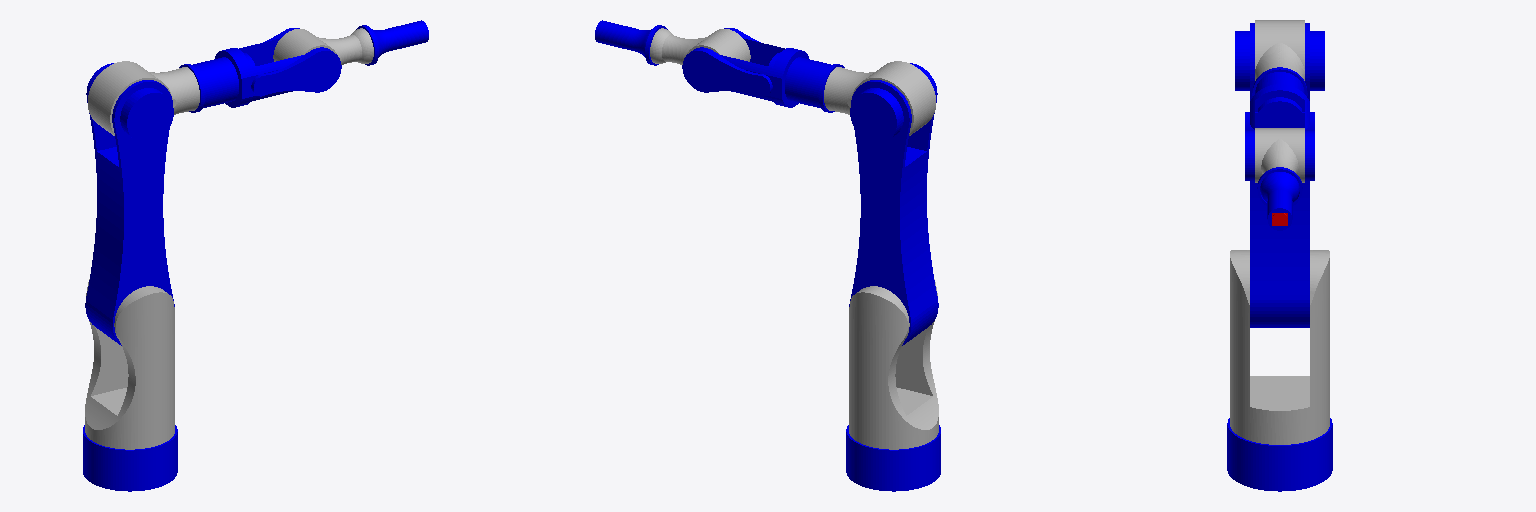
URDF robot description (project_arm):
<?xml version="1.0" ?>
<robot name="project_arm">

<!-- Define materials -->
  <material name="blue">
    <color rgba="0 0 1 1"/>
  </material>
  <material name="silver">
    <color rgba="0.75 0.75 0.75 1"/>
  </material>
  <material name="red">
    <color rgba="1 0 0 1"/>
  </material>

<link name="world"/>
  <joint name="world_joint" type="fixed">
    <parent link="world"/>
    <child link="base_link"/>
    <origin xyz="0 0 0" rpy="0 0 0"/>
  </joint>

<link name="base_link">
  <inertial>
    <origin xyz="-2.0655600803110916e-17 -4.131120160622183e-17 0.051086956521739134" rpy="0 0 0"/>
    <mass value="28.14486099507207"/>
    <inertia ixx="0.101403" iyy="0.101403" izz="0.152701" ixy="-0.0" iyz="-0.0" ixz="-0.0"/>
  </inertial>
  <visual>
    <origin xyz="0 0 0" rpy="0 0 0"/>
    <geometry>
      <mesh filename="package://project_arm_description/meshes/base_link.stl" scale="0.001 0.001 0.001"/>
    </geometry>
    <material name="blue"/>
  </visual>
  <collision>
    <origin xyz="0 0 0" rpy="0 0 0"/>
    <geometry>
      <mesh filename="package://project_arm_description/meshes/base_link.stl" scale="0.001 0.001 0.001"/>
    </geometry>
  </collision>
</link>

<link name="link_1_1">
  <inertial>
    <origin xyz="0.00386503222955484 9.679350306559669e-08 0.12786907929728872" rpy="0 0 0"/>
    <mass value="35.62909759848501"/>
    <inertia ixx="0.5863" iyy="0.492833" izz="0.219323" ixy="0.0" iyz="-0.0" ixz="-0.001059"/>
  </inertial>
  <visual>
    <origin xyz="-0.0 -0.0 -0.1" rpy="0 0 0"/>
    <geometry>
      <mesh filename="package://project_arm_description/meshes/link_1_1.stl" scale="0.001 0.001 0.001"/>
    </geometry>
    <material name="silver"/>
  </visual>
  <collision>
    <origin xyz="-0.0 -0.0 -0.1" rpy="0 0 0"/>
    <geometry>
      <mesh filename="package://project_arm_description/meshes/link_1_1.stl" scale="0.001 0.001 0.001"/>
    </geometry>
  </collision>
</link>

<link name="link_2_1">
  <inertial>
    <origin xyz="3.62961838471089e-06 0.06999999999999999 0.18402946055049396" rpy="0 0 0"/>
    <mass value="61.88069383495381"/>
    <inertia ixx="1.999815" iyy="1.968216" izz="0.186912" ixy="-0.0" iyz="-0.0" ixz="6e-06"/>
  </inertial>
  <visual>
    <origin xyz="-0.0 0.07 -0.4" rpy="0 0 0"/>
    <geometry>
      <mesh filename="package://project_arm_description/meshes/link_2_1.stl" scale="0.001 0.001 0.001"/>
    </geometry>
    <material name="blue"/>
  </visual>
  <collision>
    <origin xyz="-0.0 0.07 -0.4" rpy="0 0 0"/>
    <geometry>
      <mesh filename="package://project_arm_description/meshes/link_2_1.stl" scale="0.001 0.001 0.001"/>
    </geometry>
  </collision>
</link>

<link name="link_3_1">
  <inertial>
    <origin xyz="0.023515915121691596 0.060000000443758965 -1.2755581924039916e-08" rpy="0 0 0"/>
    <mass value="20.817814940876815"/>
    <inertia ixx="0.045875" iyy="0.099243" izz="0.087409" ixy="0.0" iyz="-0.0" ixz="0.0"/>
  </inertial>
  <visual>
    <origin xyz="0.0 0.06 -0.9" rpy="0 0 0"/>
    <geometry>
      <mesh filename="package://project_arm_description/meshes/link_3_1.stl" scale="0.001 0.001 0.001"/>
    </geometry>
    <material name="silver"/>
  </visual>
  <collision>
    <origin xyz="0.0 0.06 -0.9" rpy="0 0 0"/>
    <geometry>
      <mesh filename="package://project_arm_description/meshes/link_3_1.stl" scale="0.001 0.001 0.001"/>
    </geometry>
  </collision>
</link>

<link name="link_4_1">
  <inertial>
    <origin xyz="0.14579639880643086 4.781648560622813e-08 -4.1460917521440876e-07" rpy="0 0 0"/>
    <mass value="15.109308946328982"/>
    <inertia ixx="0.036295" iyy="0.158702" izz="0.173859" ixy="-0.0" iyz="0.0" ixz="1e-06"/>
  </inertial>
  <visual>
    <origin xyz="-0.14 0.0 -0.9" rpy="0 0 0"/>
    <geometry>
      <mesh filename="package://project_arm_description/meshes/link_4_1.stl" scale="0.001 0.001 0.001"/>
    </geometry>
    <material name="blue"/>
  </visual>
  <collision>
    <origin xyz="-0.14 0.0 -0.9" rpy="0 0 0"/>
    <geometry>
      <mesh filename="package://project_arm_description/meshes/link_4_1.stl" scale="0.001 0.001 0.001"/>
    </geometry>
  </collision>
</link>

<link name="link_5_1">
  <inertial>
    <origin xyz="0.025858948215740363 0.04000001716221553 -5.351775811401893e-08" rpy="0 0 0"/>
    <mass value="9.856273770853337"/>
    <inertia ixx="0.012972" iyy="0.033281" izz="0.033173" ixy="-0.0" iyz="-0.0" ixz="0.0"/>
  </inertial>
  <visual>
    <origin xyz="-0.45 0.04 -0.9" rpy="0 0 0"/>
    <geometry>
      <mesh filename="package://project_arm_description/meshes/link_5_1.stl" scale="0.001 0.001 0.001"/>
    </geometry>
    <material name="silver"/>
  </visual>
  <collision>
    <origin xyz="-0.45 0.04 -0.9" rpy="0 0 0"/>
    <geometry>
      <mesh filename="package://project_arm_description/meshes/link_5_1.stl" scale="0.001 0.001 0.001"/>
    </geometry>
  </collision>
</link>

<link name="link_6_1">
  <inertial>
    <origin xyz="0.055503279236654435 0.0 1.1102230246251565e-16" rpy="0 0 0"/>
    <mass value="2.467650399276117"/>
    <inertia ixx="0.001433" iyy="0.00564" izz="0.00564" ixy="0.0" iyz="0.0" ixz="0.0"/>
  </inertial>
  <visual>
    <origin xyz="-0.59 -0.0 -0.9" rpy="0 0 0"/>
    <geometry>
      <mesh filename="package://project_arm_description/meshes/link_6_1.stl" scale="0.001 0.001 0.001"/>
    </geometry>
    <material name="blue"/>
  </visual>
  <collision>
    <origin xyz="-0.59 -0.0 -0.9" rpy="0 0 0"/>
    <geometry>
      <mesh filename="package://project_arm_description/meshes/link_6_1.stl" scale="0.001 0.001 0.001"/>
    </geometry>
  </collision>
</link>

<link name="link_7_1">
  <inertial>
    <origin xyz="0.04914582948025081 -0.00024072529393794642 -8.731193212874189e-09" rpy="0 0 0"/>
    <mass value="0.26287558307060616"/>
    <inertia ixx="4.9e-05" iyy="0.000308" izz="0.000308" ixy="0.0" iyz="-0.0" ixz="0.0"/>
  </inertial>
  <visual>
    <origin xyz="-0.65 -0.0 -0.9" rpy="0 0 0"/>
    <geometry>
      <mesh filename="package://project_arm_description/meshes/link_7_1.stl" scale="0.001 0.001 0.001"/>
    </geometry>
    <material name="red"/>
  </visual>
  <collision>
    <origin xyz="-0.65 -0.0 -0.9" rpy="0 0 0"/>
    <geometry>
      <mesh filename="package://project_arm_description/meshes/link_7_1.stl" scale="0.001 0.001 0.001"/>
    </geometry>
  </collision>
</link>

<joint name="joint_1" type="revolute">
  <origin xyz="0.0 0.0 0.1" rpy="0 0 0"/>
  <parent link="base_link"/>
  <child link="link_1_1"/>
  <axis xyz="0.0 0.0 1.0"/>
  <limit upper="3.141593" lower="0.0" effort="9000" velocity="10"/>
</joint>

<joint name="joint_2" type="revolute">
  <origin xyz="0.0 -0.07 0.3" rpy="0 0 0"/>
  <parent link="link_1_1"/>
  <child link="link_2_1"/>
  <axis xyz="0.0 1.0 0.0"/>
  <limit upper="1.570796" lower="-1.570796" effort="9000" velocity="10"/>
</joint>

<joint name="joint_3" type="revolute">
  <origin xyz="-0.0 0.01 0.5" rpy="0 0 0"/>
  <parent link="link_2_1"/>
  <child link="link_3_1"/>
  <axis xyz="0.0 1.0 0.0"/>
  <limit upper="0.785398" lower="-3.926991" effort="9000" velocity="10"/>
</joint>

<joint name="joint_4" type="revolute">
  <origin xyz="0.14 0.06 0.0" rpy="0 0 0"/>
  <parent link="link_3_1"/>
  <child link="link_4_1"/>
  <axis xyz="1.0 0.0 0.0"/>
  <limit upper="3.141593" lower="0.0" effort="9000" velocity="10"/>
</joint>

<joint name="joint_5" type="revolute">
  <origin xyz="0.31 -0.04 0.0" rpy="0 0 0"/>
  <parent link="link_4_1"/>
  <child link="link_5_1"/>
  <axis xyz="0.0 1.0 0.0"/>
  <limit upper="2.356194" lower="-2.356194" effort="9000" velocity="10"/>
</joint>

<joint name="joint_6" type="revolute">
  <origin xyz="0.14 0.04 0.0" rpy="0 0 0"/>
  <parent link="link_5_1"/>
  <child link="link_6_1"/>
  <axis xyz="1.0 0.0 0.0"/>
  <limit upper="6.283185" lower="0.0" effort="9000" velocity="10"/>
</joint>

<joint name="joint_7" type="prismatic">
  <origin xyz="0.06 0.0 0.0" rpy="0 0 0"/>
  <parent link="link_6_1"/>
  <child link="link_7_1"/>
  <axis xyz="1.0 0.0 0.0"/>
  <limit upper="0.05" lower="0.0" effort="9000" velocity="10"/>
</joint>

</robot>

--- Facts derived from the render (not from the file) ---
Views: 3 orthographic renders of the robot side by side, from view 1: azimuth 30°, elevation 25°; view 2: azimuth 150°, elevation 25°; view 3: azimuth 270°, elevation 25°.
Model project_arm with 9 links and 8 joints (6 revolute, 1 prismatic, 1 fixed), rooted at world, posed every joint at zero.
Visible links, largest first — view 1: link_2_1, link_1_1, link_4_1, base_link, link_3_1, link_5_1, link_6_1; view 2: link_2_1, link_1_1, link_4_1, base_link, link_3_1, link_5_1, link_6_1; view 3: link_1_1, link_2_1, base_link, link_4_1, link_3_1, link_5_1, link_6_1.
Link boxes in pixels (x1,y1,x2,y2): link_2_1: [85, 63, 174, 345]; link_1_1: [85, 279, 174, 449]; link_4_1: [179, 28, 341, 112]; base_link: [83, 425, 177, 491]; link_3_1: [88, 61, 199, 135]; link_5_1: [273, 28, 373, 64]; link_6_1: [356, 20, 428, 65]; link_2_1: [849, 63, 938, 345]; link_1_1: [849, 279, 938, 449]; link_4_1: [682, 28, 844, 112]; base_link: [846, 425, 940, 491]; link_3_1: [824, 61, 935, 135]; link_5_1: [650, 28, 750, 64]; link_6_1: [595, 20, 667, 65]; link_1_1: [1230, 250, 1329, 444]; link_2_1: [1235, 23, 1324, 327]; base_link: [1227, 418, 1332, 491]; link_4_1: [1245, 67, 1314, 180]; link_3_1: [1255, 20, 1304, 80]; link_5_1: [1255, 128, 1304, 182]; link_6_1: [1257, 167, 1302, 230].
Size in the robot's own frame: 0.855 by 0.21 by 0.98 metres.
Meshes: 8 distinct files referenced, 8 mesh visuals loaded (8 binary STL).